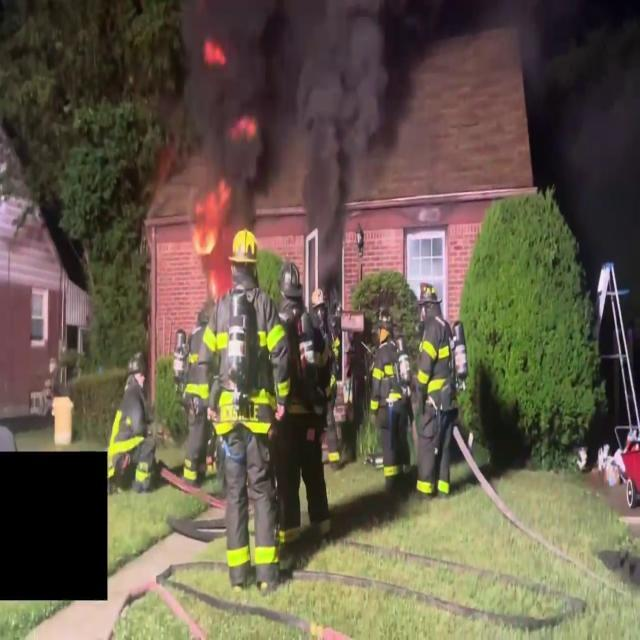Fire: (192, 192, 264, 264)
Smoke: (162, 0, 424, 230)
